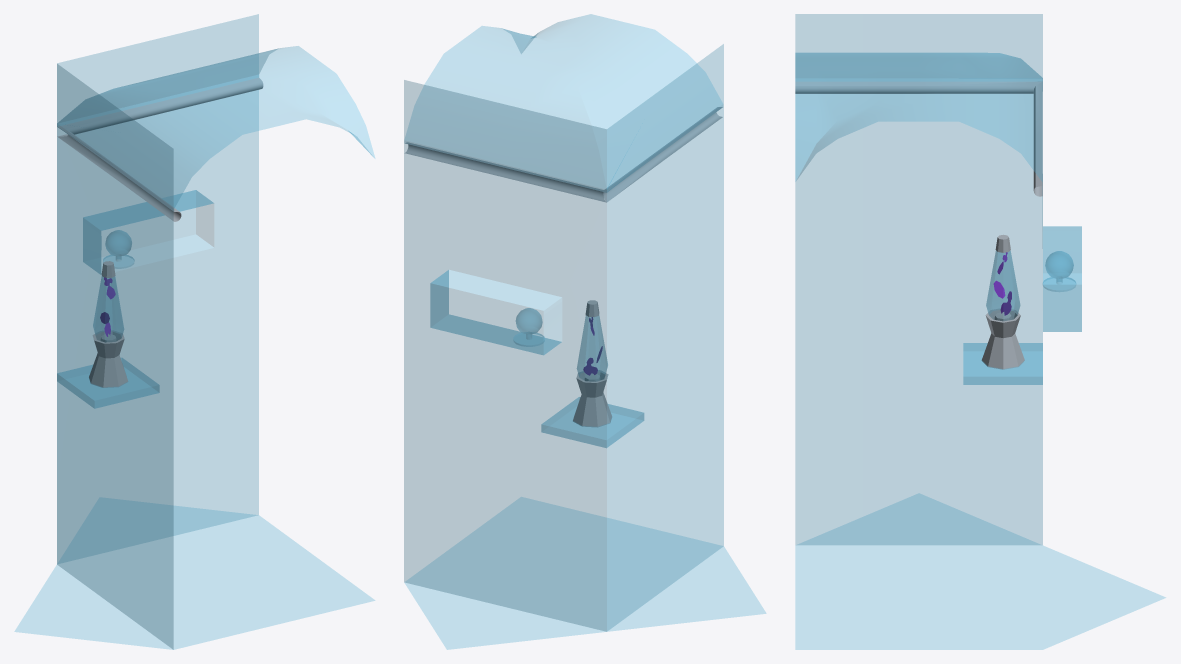
File: LeftTurn1.fbx
3 renders of one model, left to right at view 1: azimuth 30°, elevation 25°; view 2: azimuth 150°, elevation 25°; view 3: azimuth 270°, elevation 25°, orthographic. The views are drawn at different scales.
Visible parts, largest first — view 1: Straight.004; view 2: Straight.004; view 3: Straight.004.
Part boxes in pixels (<box>): Straight.004: <box>14,14,374,649</box>; Straight.004: <box>404,14,765,649</box>; Straight.004: <box>795,14,1165,649</box>.
Size of the model in its own units: 180 by 284 by 180.
